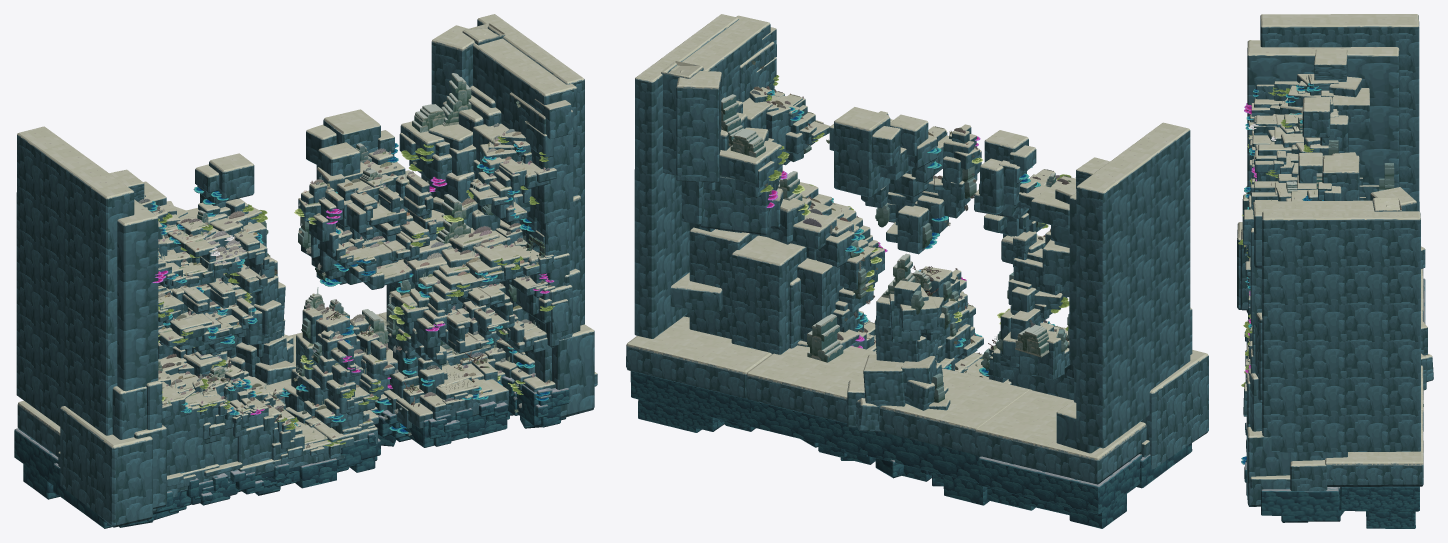
The picture shows the model from 3 angles, left to right: view 1: azimuth 30°, elevation 25°; view 2: azimuth 150°, elevation 25°; view 3: azimuth 270°, elevation 25°; orthographic projection. The views are drawn at different scales.
Size of the model in its own units: 150 by 104 by 58.6.
23 materials, 23 textured.
